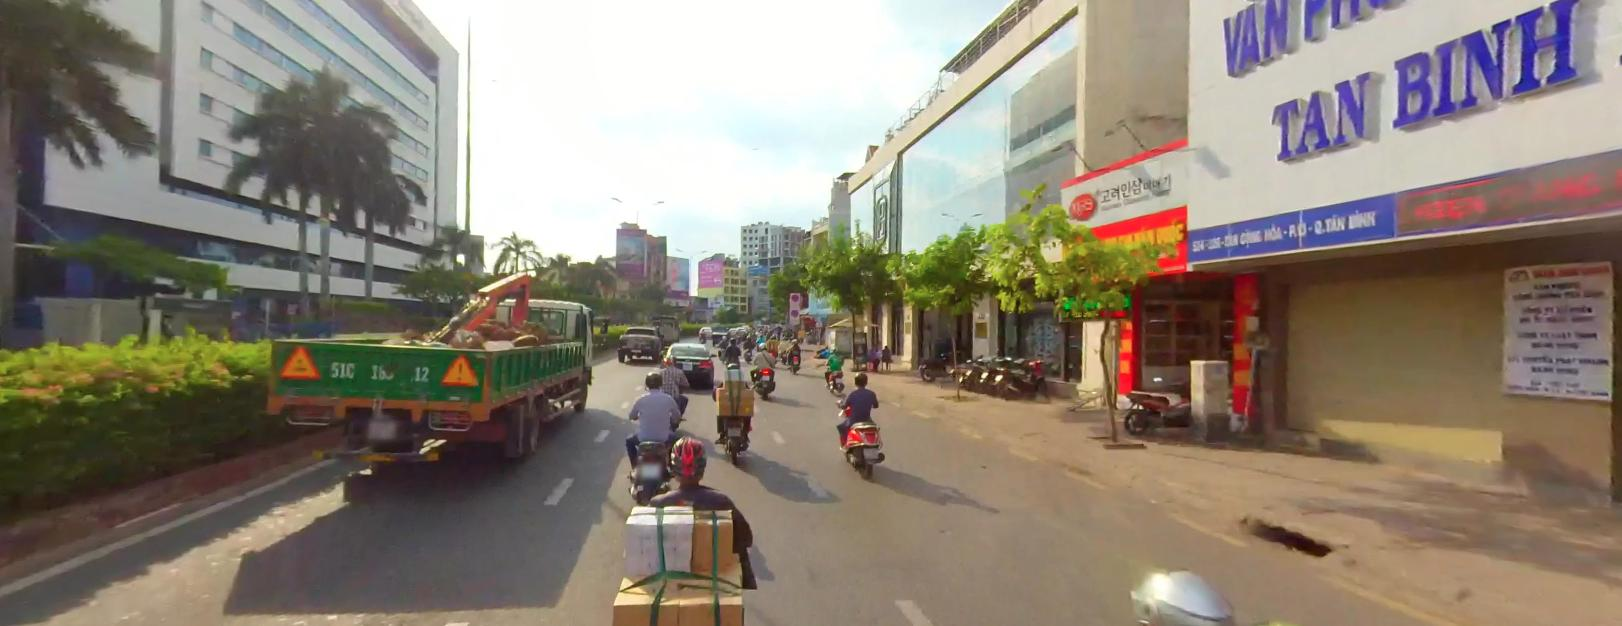Cam dung va do: (791, 292, 799, 300), (790, 307, 798, 315)
